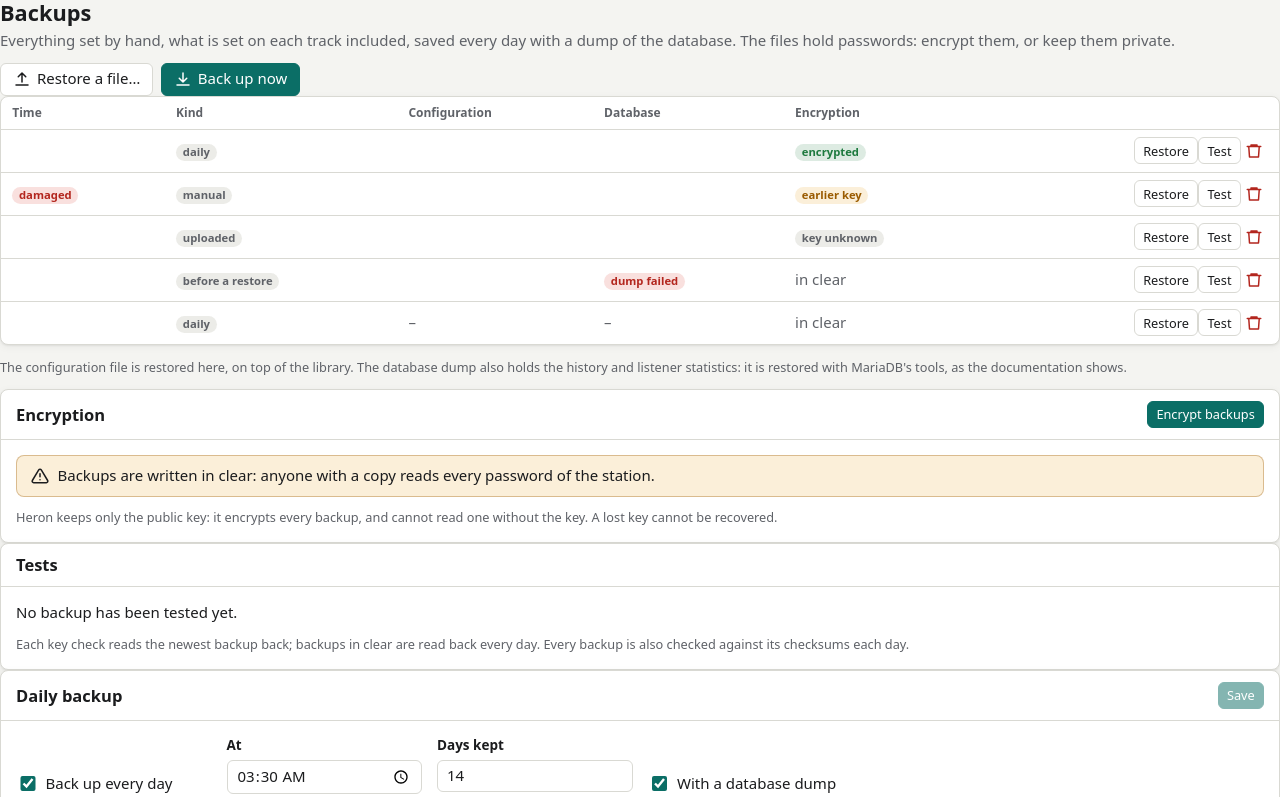
encryption › says when the key cannot be copied
Click the button "Encrypt backups" at (1206, 415), box [1147,401,1264,428]
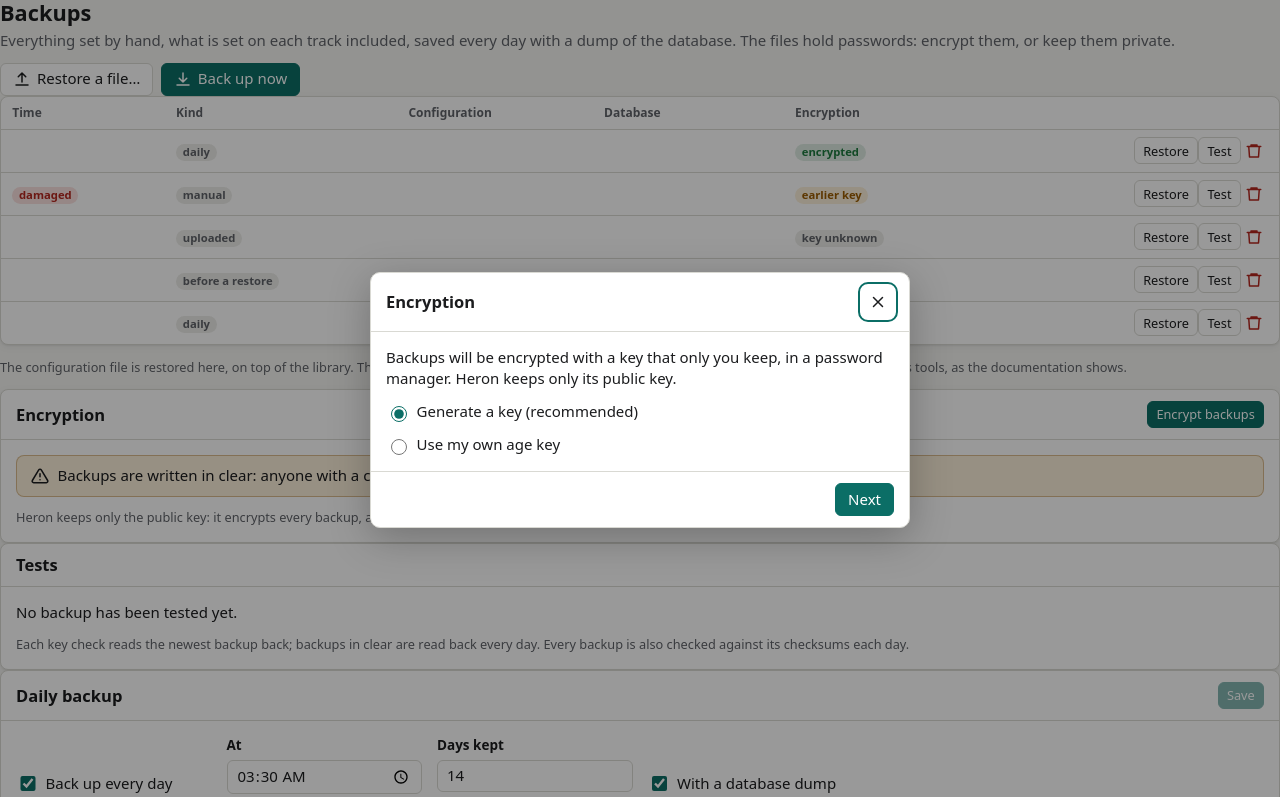
Click the button "Next" at (865, 500), box [835,483,894,516]
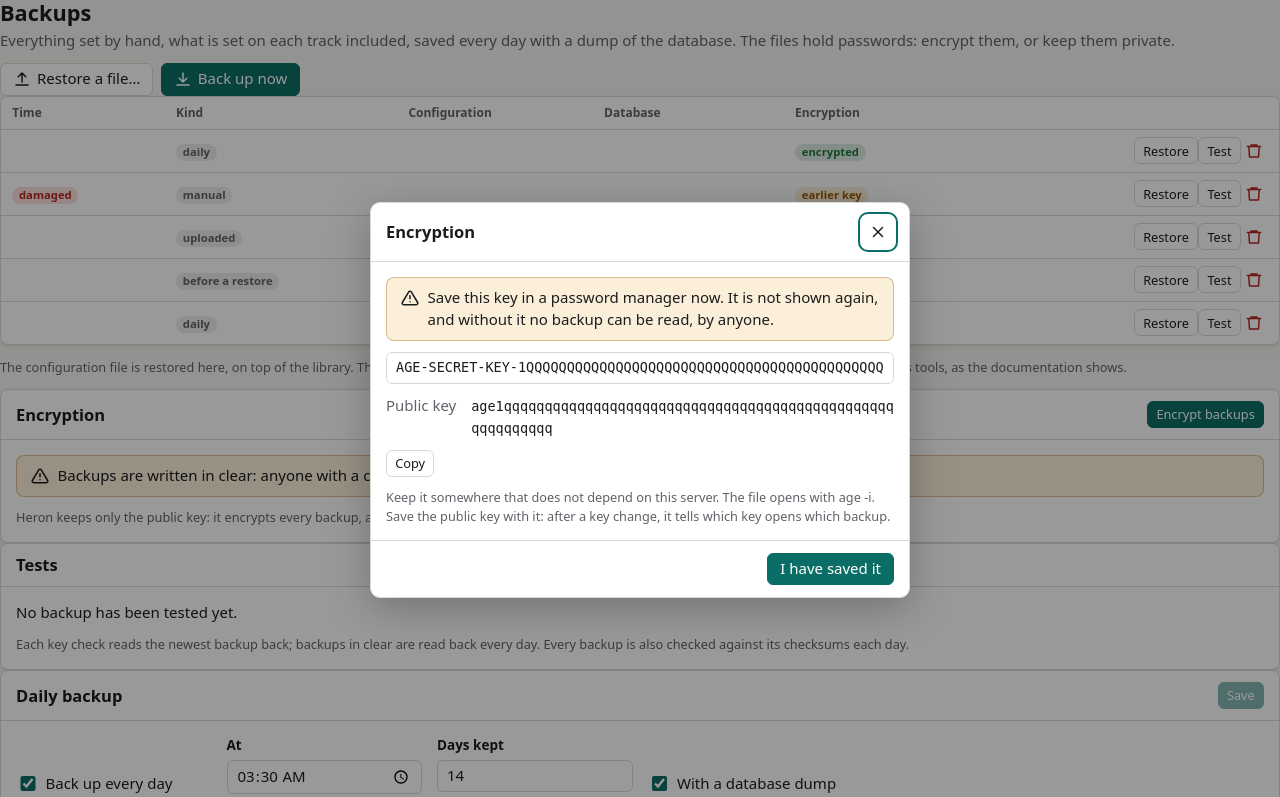
Click the button "Copy" at (410, 464), box [386,450,434,477]
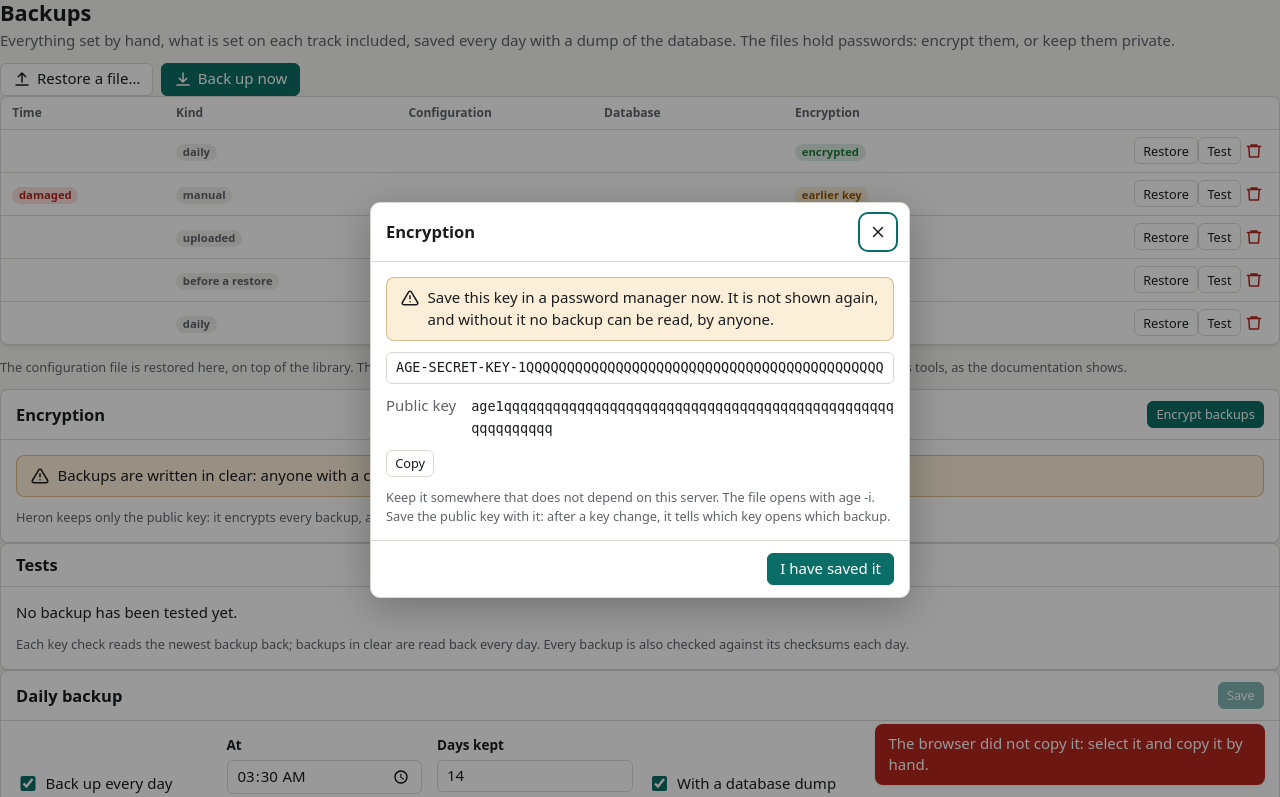
Result: the text "The browser did not copy it: select it and copy it by hand." is shown at [875,724,1265,785]
